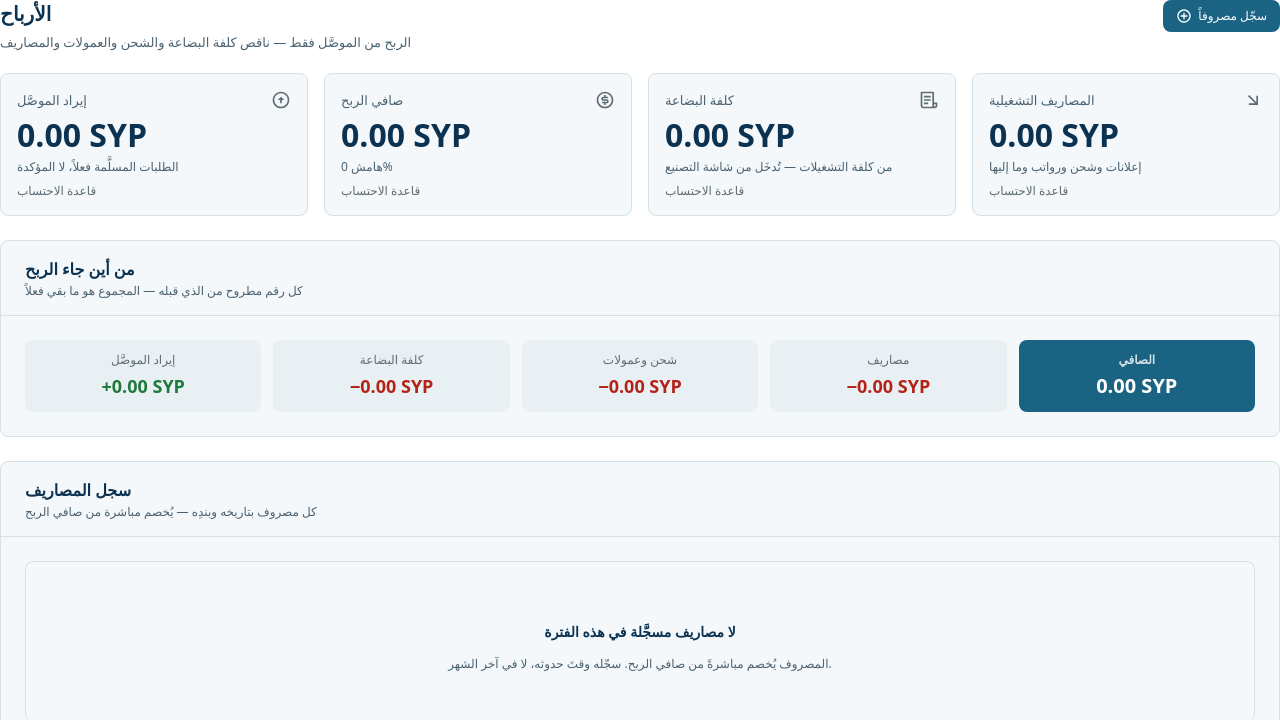
Scenario: the amount box opens empty and sends nothing when nothing was typed › opens with an empty box — there is no default amount
Step 1. Click the button "سجّل مصروفاً" → (1222, 16), box [1163,0,1279,32]
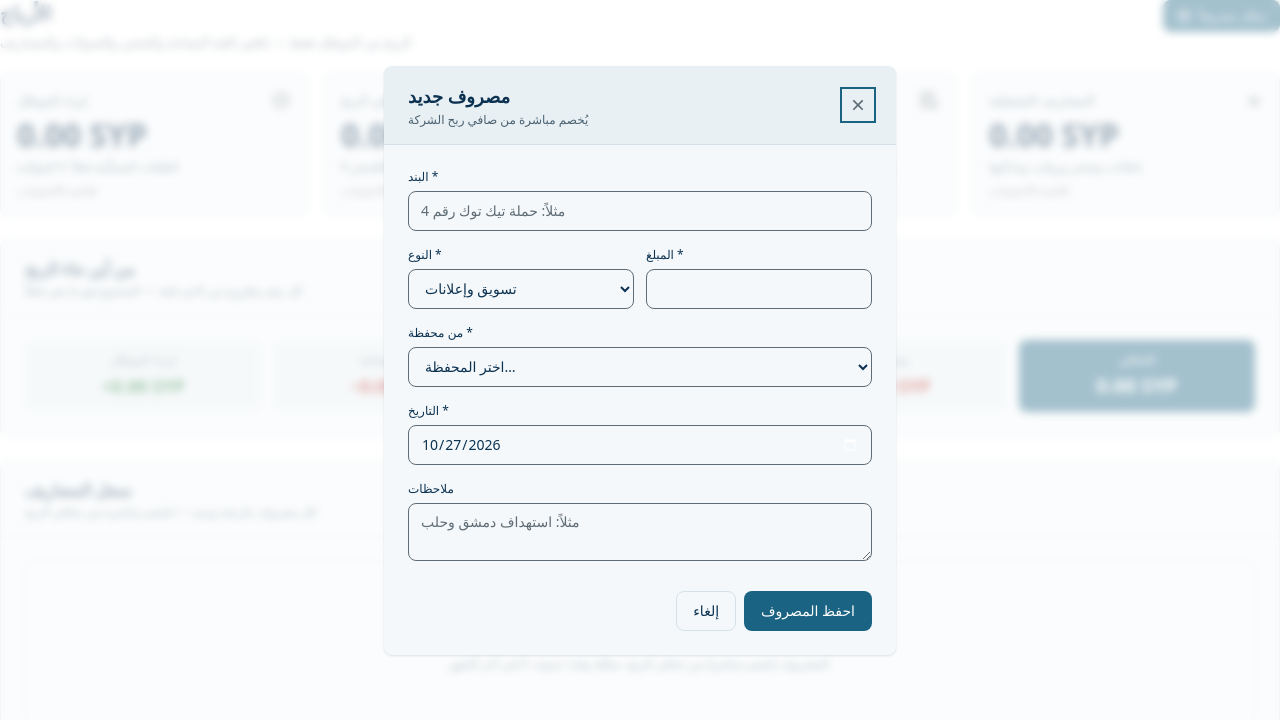
Expected: the number field labelled "المبلغ *" is empty, [646,268,872,308]
Expected: the number field labelled "المبلغ *" is shown, [646,268,872,308]
